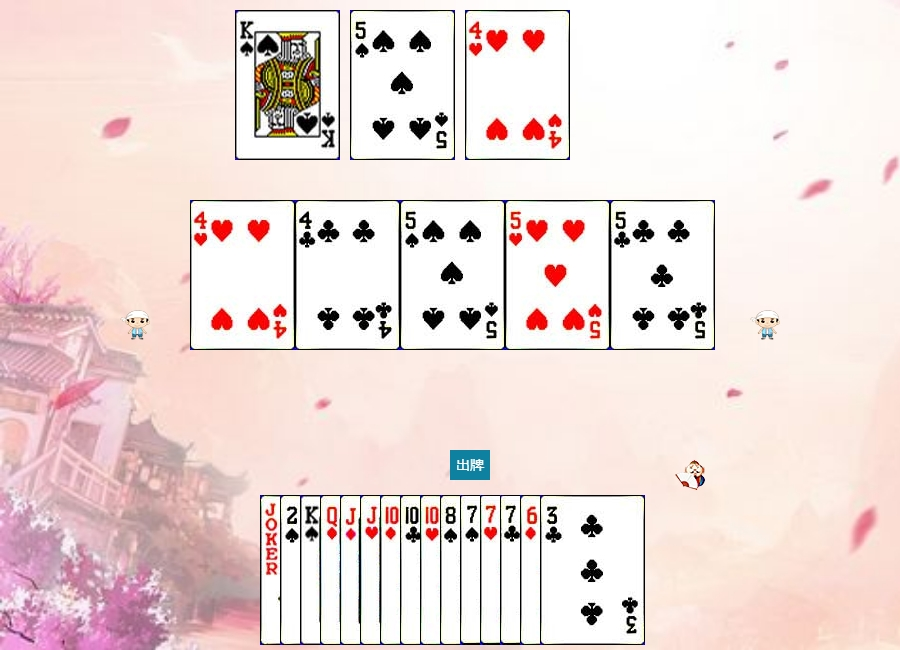10~1: (380, 495, 485, 645)
10~2: (400, 495, 505, 645)
10~3: (420, 495, 525, 645)
11~1: (340, 495, 445, 645)
11~3: (360, 495, 465, 645)
12~1: (320, 495, 425, 645)
13~4: (235, 10, 340, 160), (300, 495, 405, 645)
15~4: (280, 495, 385, 645)
18~4: (260, 495, 365, 645)
3~2: (540, 495, 645, 645)
4~2: (295, 200, 400, 350)
4~3: (465, 10, 570, 160), (190, 200, 295, 350)
5~2: (610, 200, 715, 350)
5~3: (505, 200, 610, 350)
5~4: (350, 10, 455, 160), (400, 200, 505, 350)
6~1: (520, 495, 625, 645)
7~2: (500, 495, 605, 645)
7~3: (480, 495, 585, 645)
7~4: (460, 495, 565, 645)
8~4: (440, 495, 545, 645)
